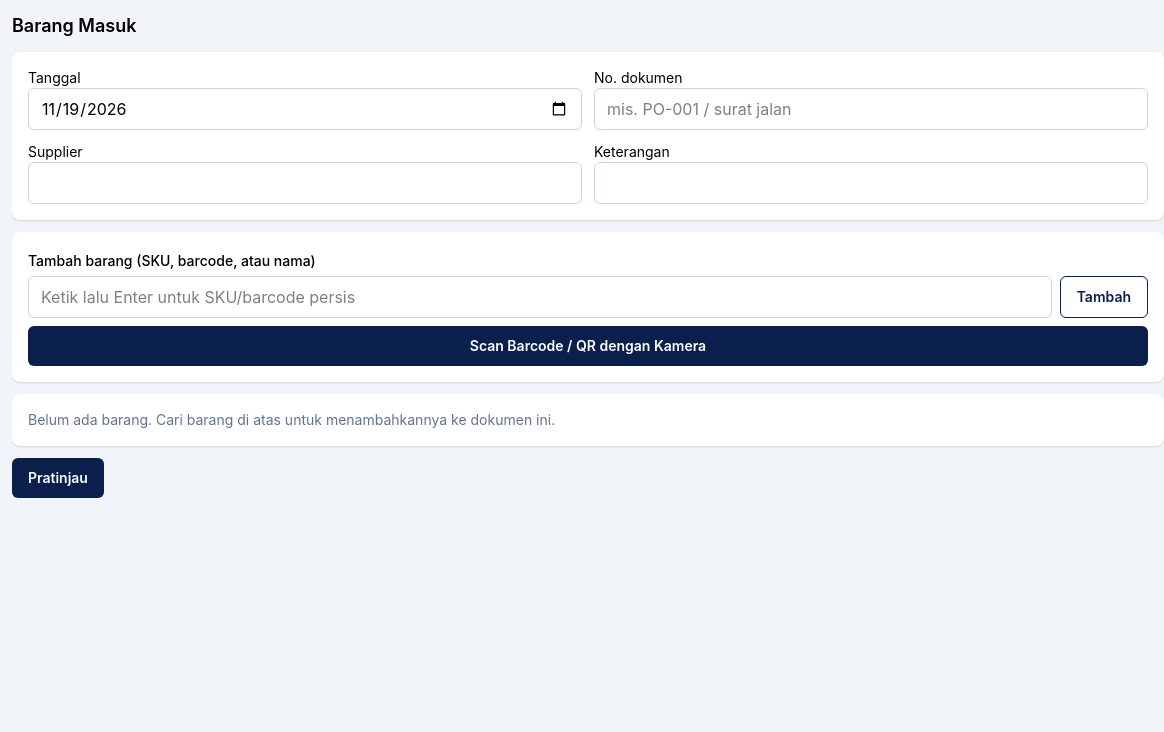
Scenario: Barang Masuk: alur online › validasi: dokumen kosong dan angka tidak valid ditandai, tidak ada yang dikirim
The width and height of the screenshot is (1164, 732).
Click the button "Pratinjau". click: {"x": 58, "y": 478}
box: [12,458,104,498]
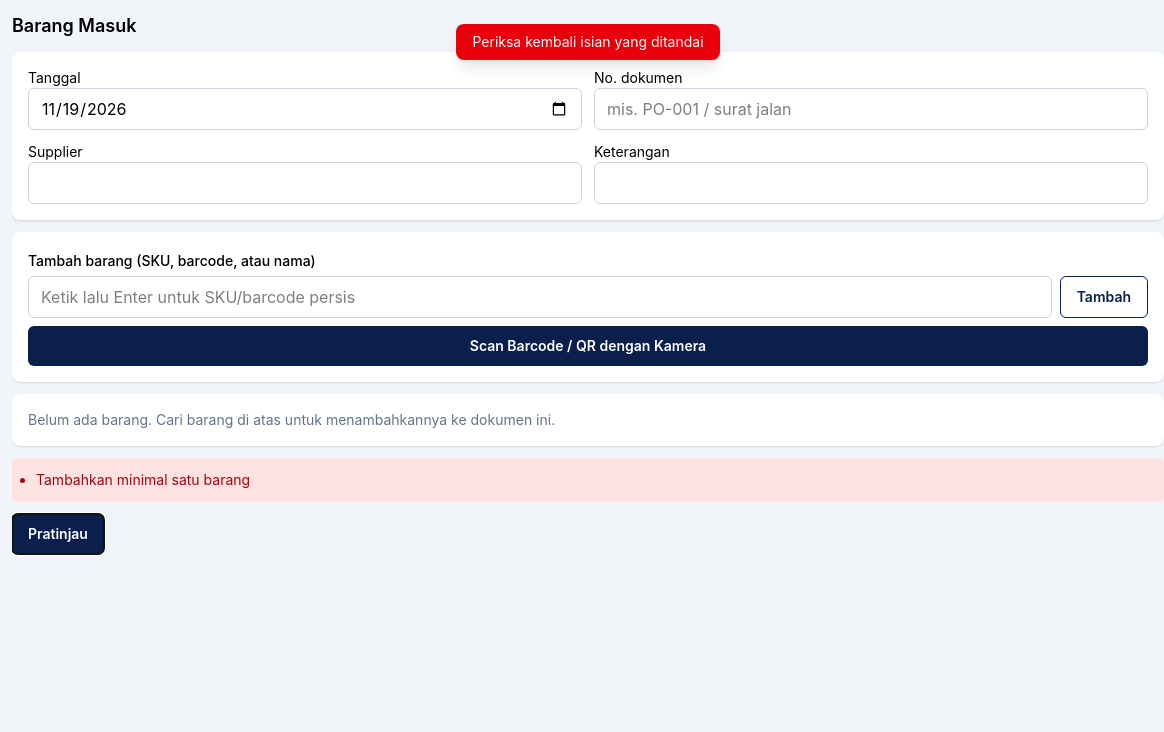
Type "air" into the field labelled "Tambah barang (SKU, barcode, atau nama)". click: {"x": 540, "y": 297}
box: [28,276,1052,318]
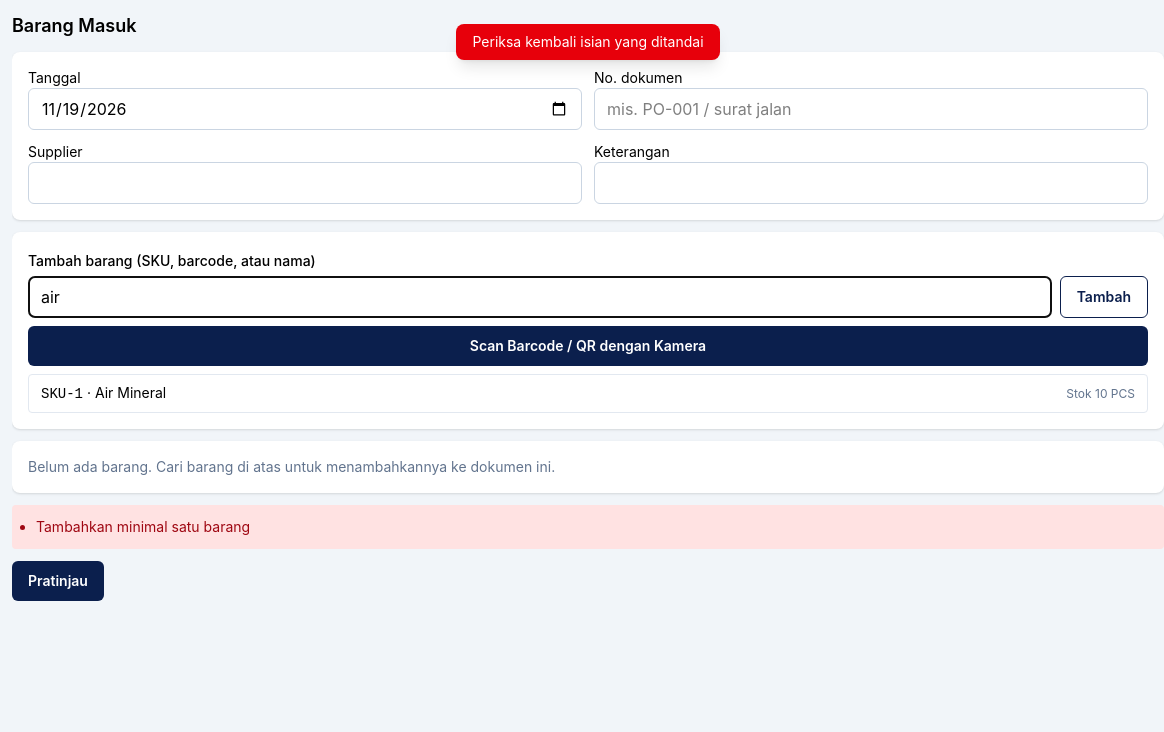
Click the button "SKU-1 · Air Mineral Stok 10 PCS". click: {"x": 62, "y": 394}
box: [29,375,1147,412]
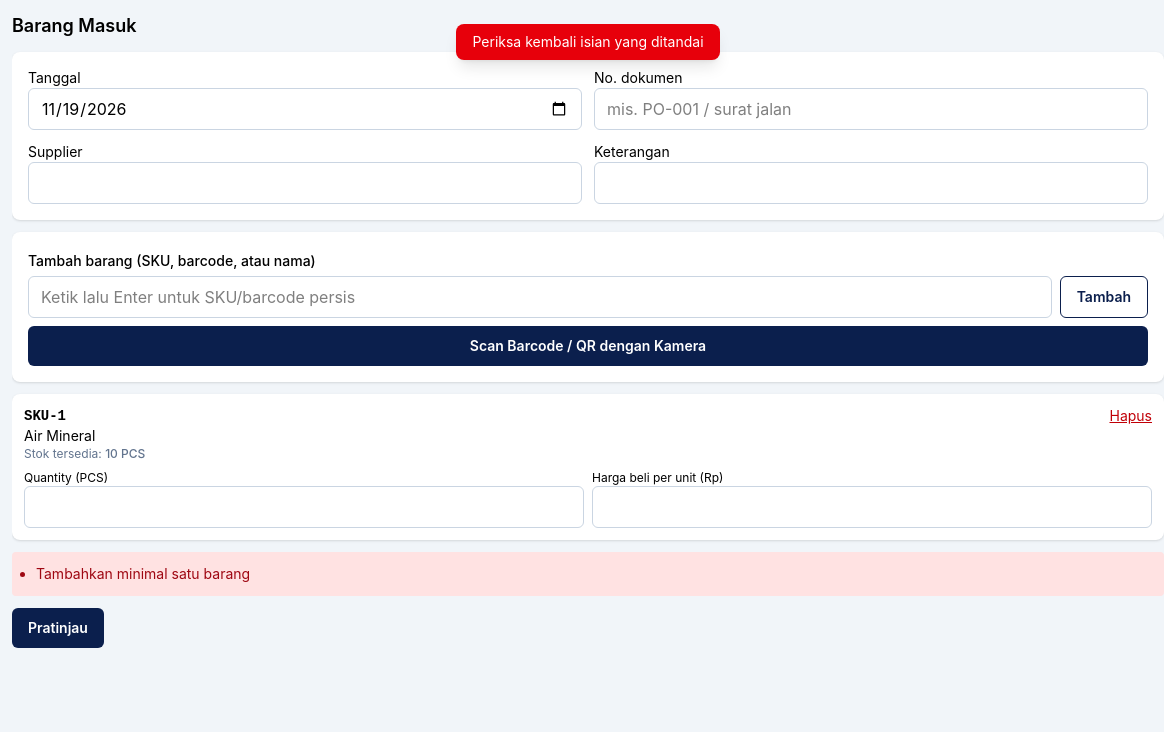
Type "1.00001" into the field labelled "Quantity (PCS)". click: {"x": 304, "y": 507}
box: [24,486,584,528]
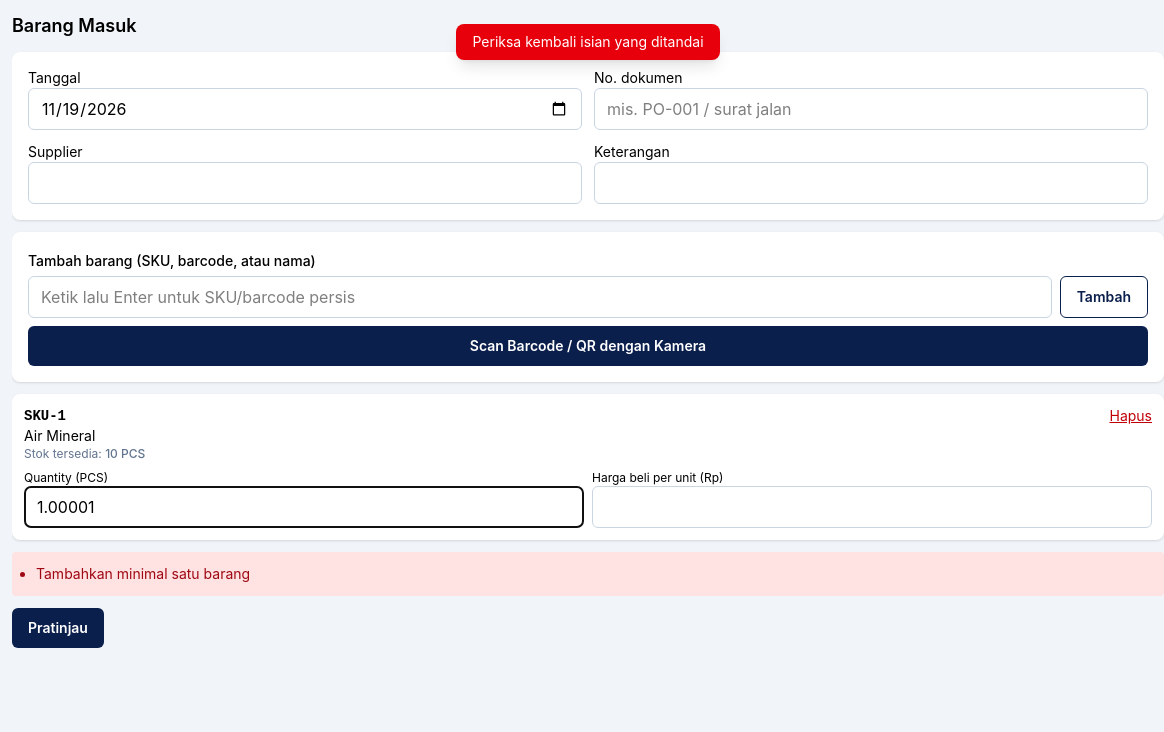
Click the button "Pratinjau". click: {"x": 58, "y": 628}
box: [12,608,104,648]
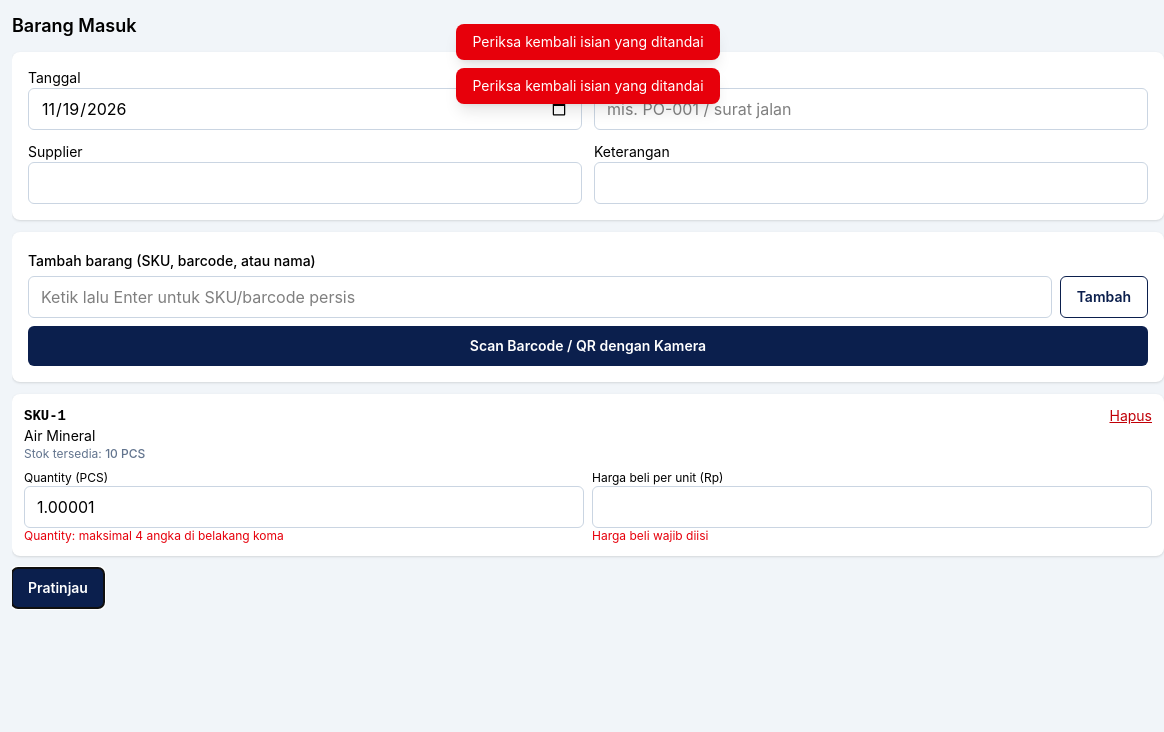
Expected: the text "Quantity: maksimal 4 angka di belakang koma" is shown, [24,528,284,543]
Expected: the text "Harga beli wajib diisi" is shown, [592,528,708,543]
